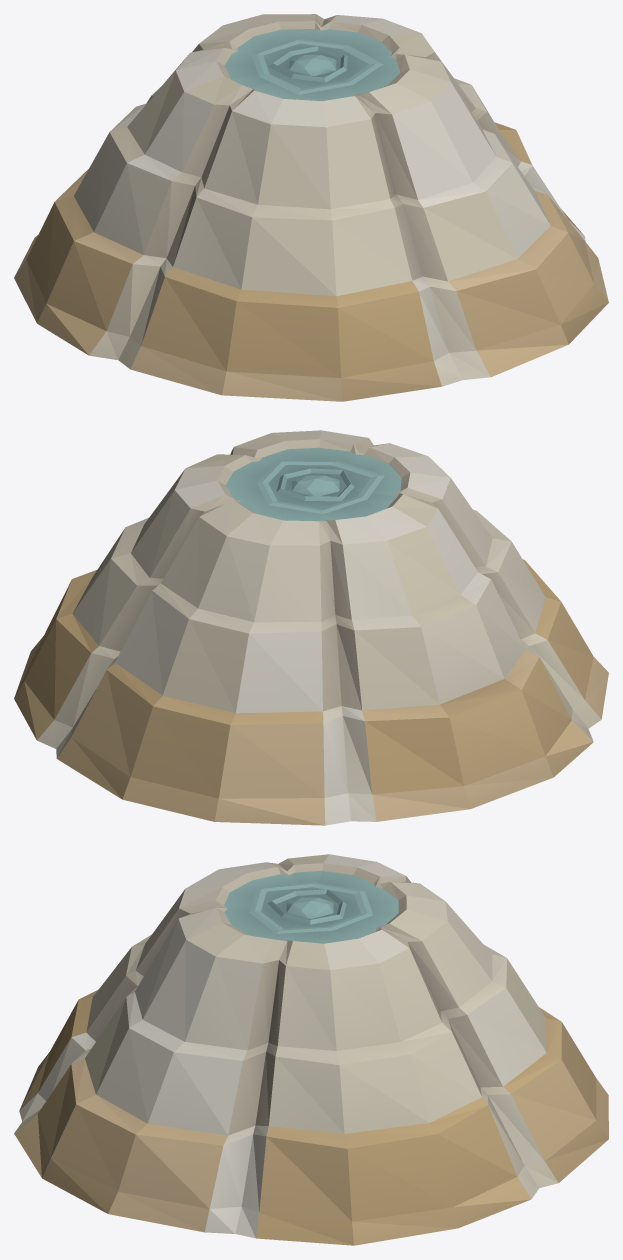
Rendered from geyser.glb.
The picture shows the model from 3 angles, top to bottom: view 1: azimuth 30°, elevation 25°; view 2: azimuth 150°, elevation 25°; view 3: azimuth 270°, elevation 25°; orthographic projection.
Parts seen in each view (by area): view 1: geyser; view 2: geyser; view 3: geyser.
Part boxes in pixels (box(x1,y1,x2,y2)): geyser: box(14, 14, 608, 401); geyser: box(14, 430, 608, 825); geyser: box(14, 854, 608, 1245).
Bounding box in the file's own units: 5.4 × 2.18 × 5.4.
